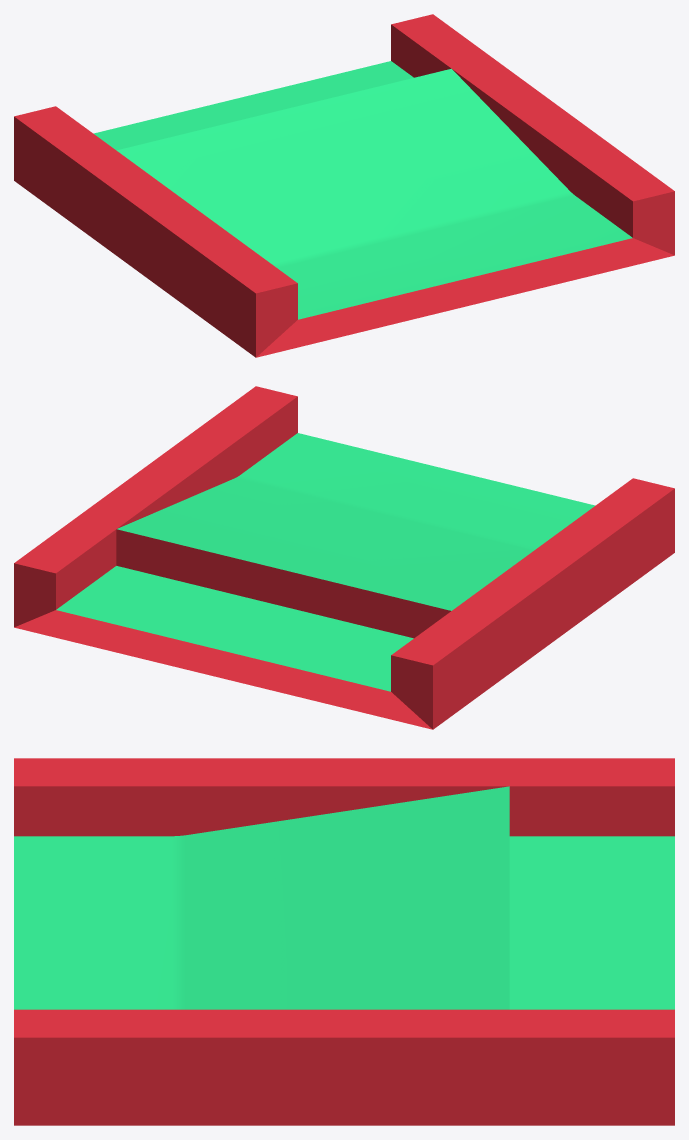
The model's file is rampSharp.fbx.
3 views of the same model, one above another, from view 1: azimuth 30°, elevation 25°; view 2: azimuth 150°, elevation 25°; view 3: azimuth 270°, elevation 25° (orthographic). The views are drawn at different scales.
Parts seen in each view (by area): view 1: rampSharp; view 2: rampSharp; view 3: rampSharp.
Boxes of the visible parts, x1,y1,x2,y2 form: rampSharp: (14,14,674,357); rampSharp: (14,386,674,729); rampSharp: (14,758,674,1125).
Size of the model in its own units: 99.99 by 99.99 by 14.67.
